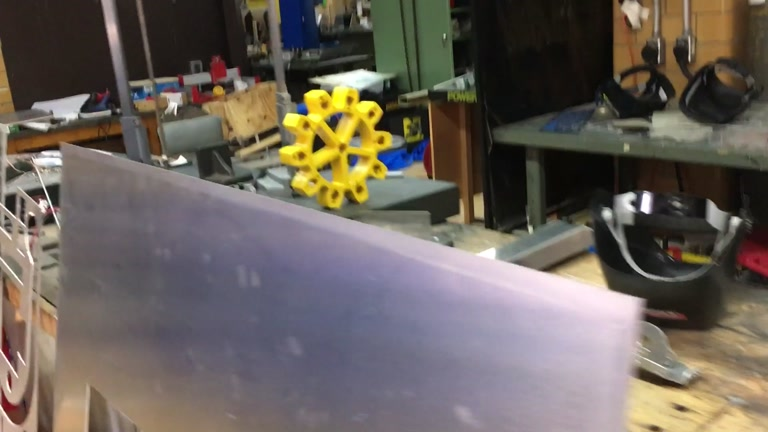gear: (278, 84, 392, 210)
